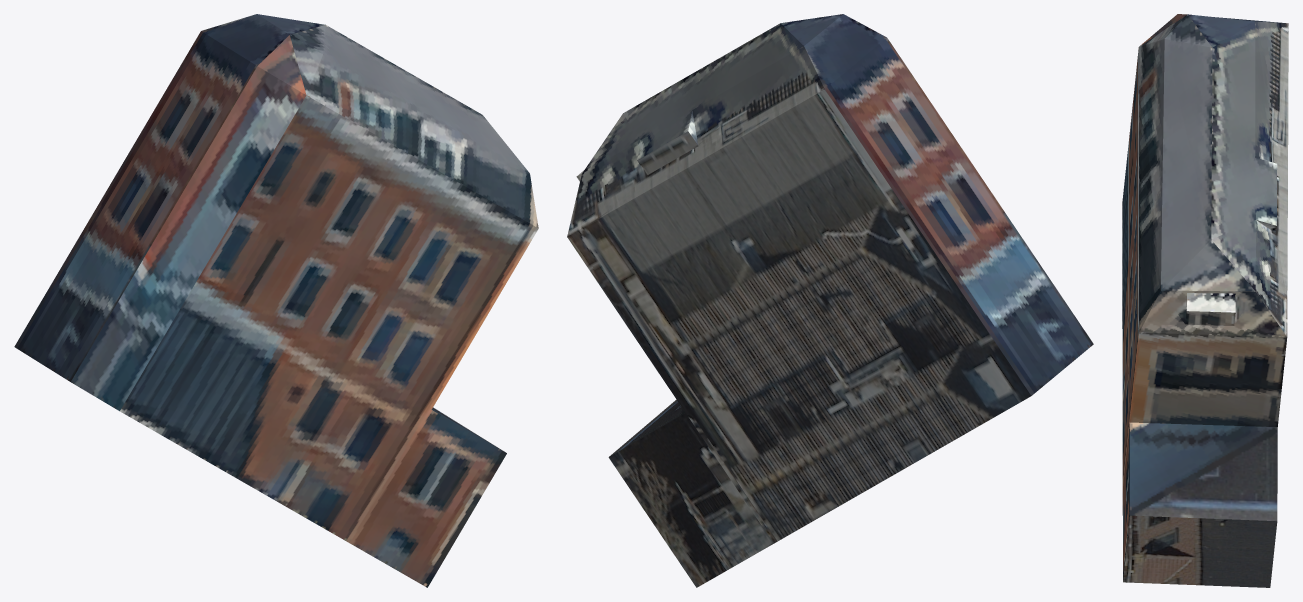
3 renders of one model, left to right at view 1: azimuth 30°, elevation 25°; view 2: azimuth 150°, elevation 25°; view 3: azimuth 270°, elevation 25°, orthographic. The views are drawn at different scales.
Parts seen in each view (by area): view 1: BAG_0599100000671717 (×7); view 2: BAG_0599100000671717 (×7); view 3: BAG_0599100000671717 (×9).
Boxes of the visible parts, x1,y1,x2,y2 form: BAG_0599100000671717 (×7): (14,14,538,587); BAG_0599100000671717 (×7): (567,14,1093,587); BAG_0599100000671717 (×9): (1122,14,1288,587).
Bounding box in the file's own units: 19.15 × 21.67 × 6.2.
Materials: 10 (9 with a texture image).
